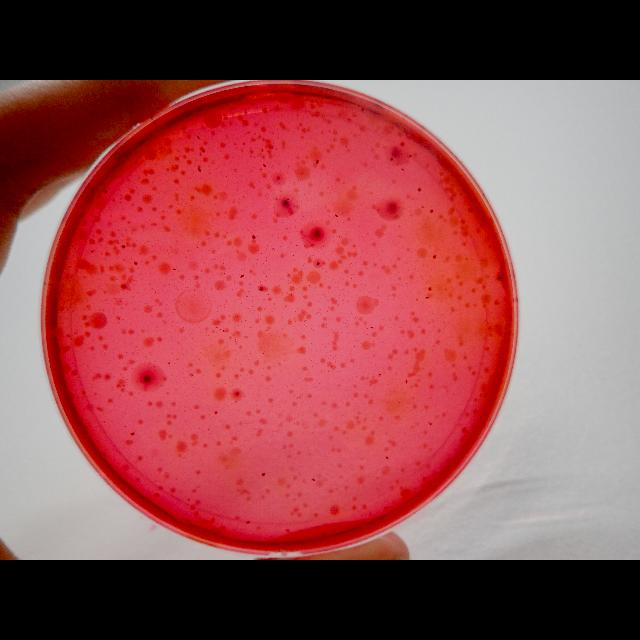colony: (312, 228, 322, 238), (142, 374, 152, 384), (388, 202, 398, 212), (282, 200, 290, 206), (392, 151, 398, 157), (120, 284, 126, 288), (197, 167, 201, 173), (196, 134, 200, 140), (262, 164, 268, 168), (498, 275, 502, 281), (404, 378, 408, 384), (262, 472, 266, 478), (130, 432, 136, 436), (335, 213, 339, 219), (252, 235, 256, 239), (316, 261, 320, 265), (259, 287, 263, 291), (240, 274, 244, 278), (121, 245, 125, 249), (134, 261, 138, 265), (172, 267, 176, 271), (104, 190, 108, 194), (202, 149, 206, 153), (276, 176, 280, 180), (315, 160, 319, 164), (408, 154, 412, 158), (418, 188, 422, 192), (430, 210, 434, 214), (433, 255, 437, 259), (428, 287, 432, 291), (312, 478, 316, 482), (154, 120, 156, 126), (401, 167, 404, 171), (247, 520, 250, 524), (215, 410, 218, 414), (286, 198, 290, 200), (425, 297, 429, 299), (430, 422, 432, 426), (386, 456, 388, 460), (236, 392, 238, 396), (391, 158, 394, 160)
